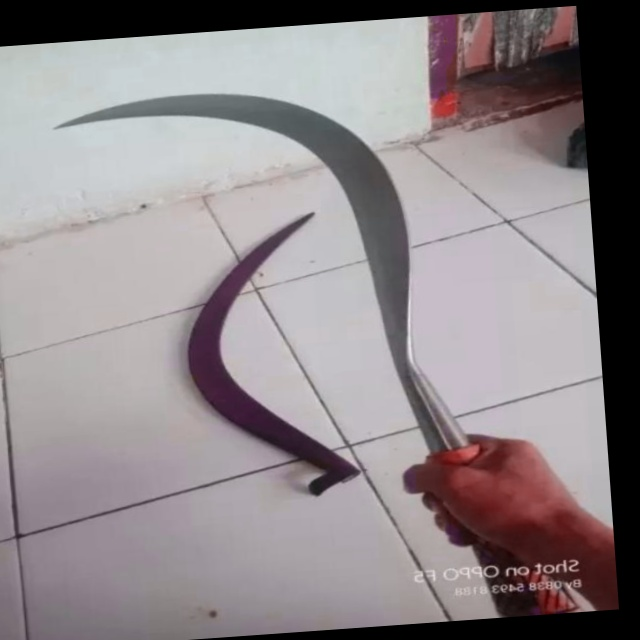Sharp-Object: (50, 41, 525, 621), (166, 195, 358, 519)
